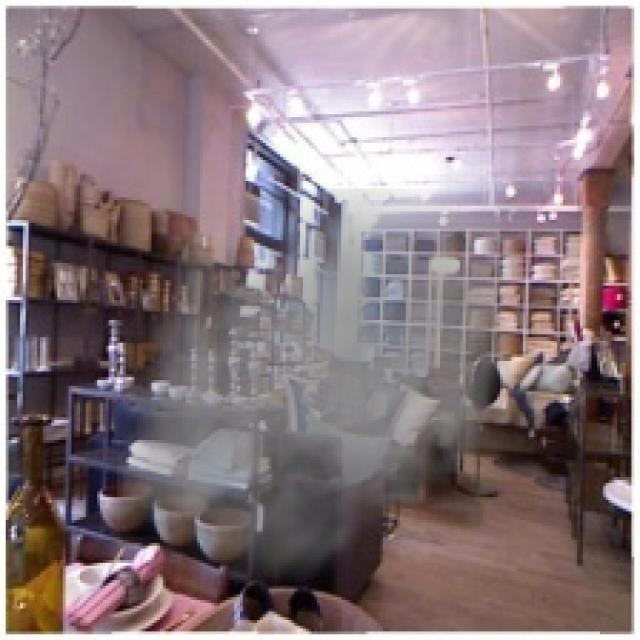Smoke: (117, 188, 517, 600)
